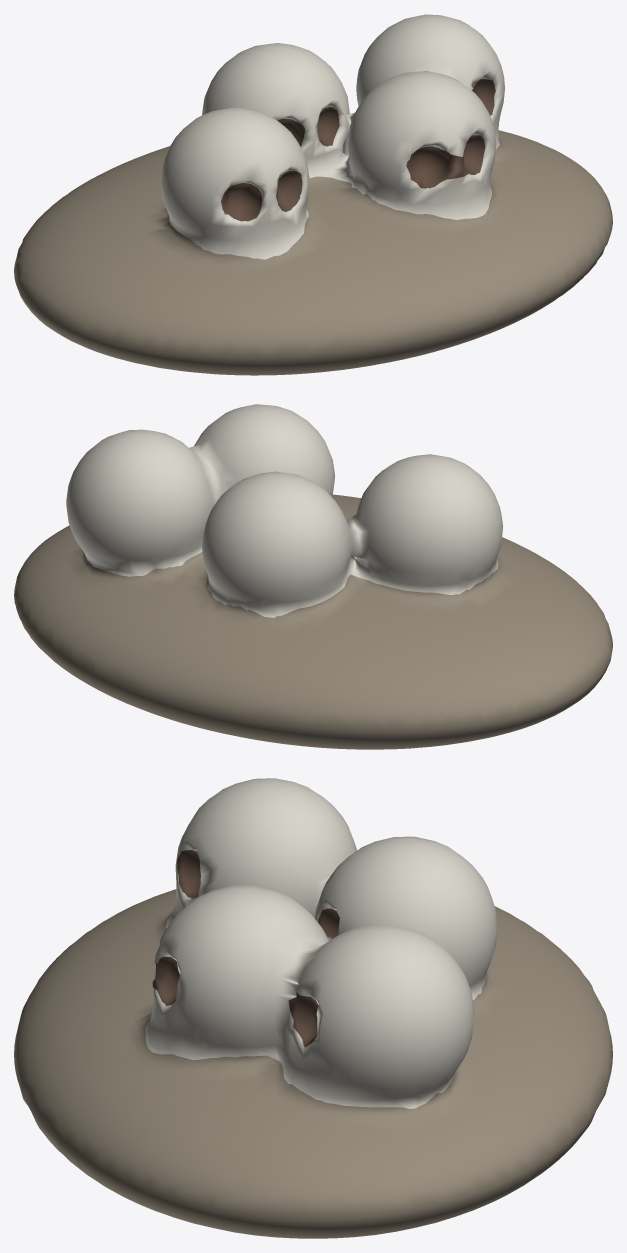
File: skulls.glb
3 views of the same model, one above another, from view 1: azimuth 30°, elevation 25°; view 2: azimuth 150°, elevation 25°; view 3: azimuth 270°, elevation 25° (orthographic). The views are drawn at different scales.
Parts seen in each view (by area): view 1: skulls; view 2: skulls; view 3: skulls.
Part boxes in pixels (x1,y1,x2,y2): skulls: [14, 14, 612, 375]; skulls: [14, 404, 612, 749]; skulls: [14, 778, 612, 1238].
Size of the model in its own units: 67.99 by 28 by 52.
